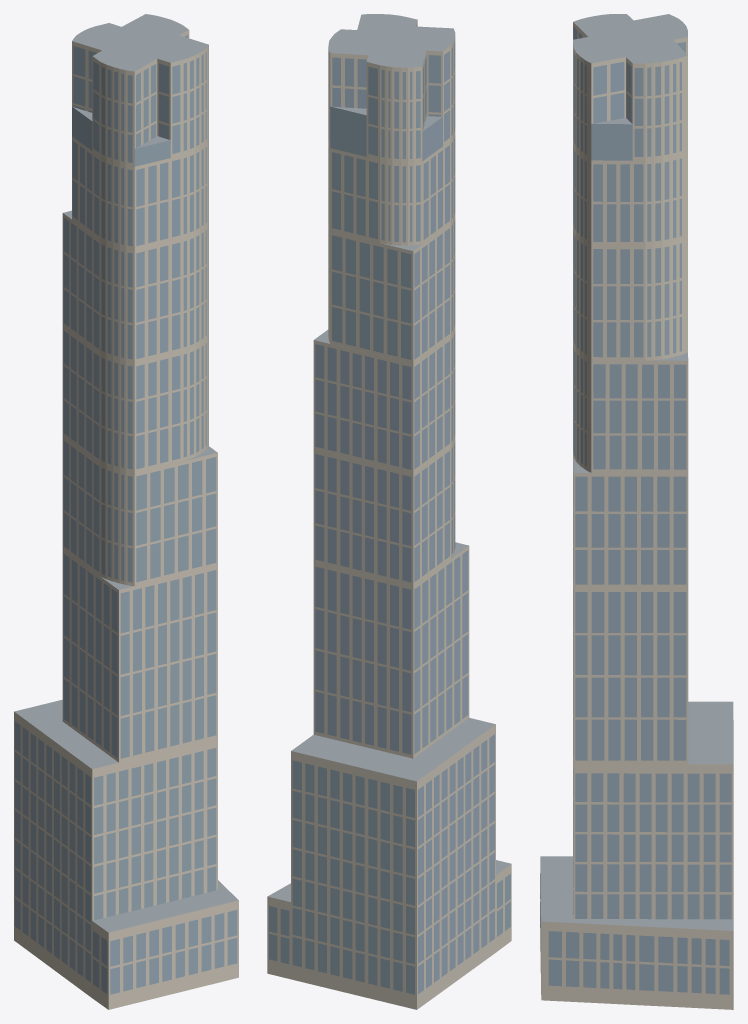
The model's file is nyc-35-hudson-yards.glb.
The picture shows the model from 3 angles, left to right: view 1: azimuth 30°, elevation 25°; view 2: azimuth 150°, elevation 25°; view 3: azimuth 270°, elevation 25°; orthographic projection. The views are drawn at different scales.
Visible parts, largest first — view 1: 35 Hudson Yards; view 2: 35 Hudson Yards; view 3: 35 Hudson Yards.
Boxes of the visible parts, bbox=[...] form: 35 Hudson Yards: bbox=[14, 14, 238, 1009]; 35 Hudson Yards: bbox=[267, 14, 511, 1009]; 35 Hudson Yards: bbox=[540, 14, 733, 1009].
Bounding box in the file's own units: 52.96 × 308 × 57.92.
